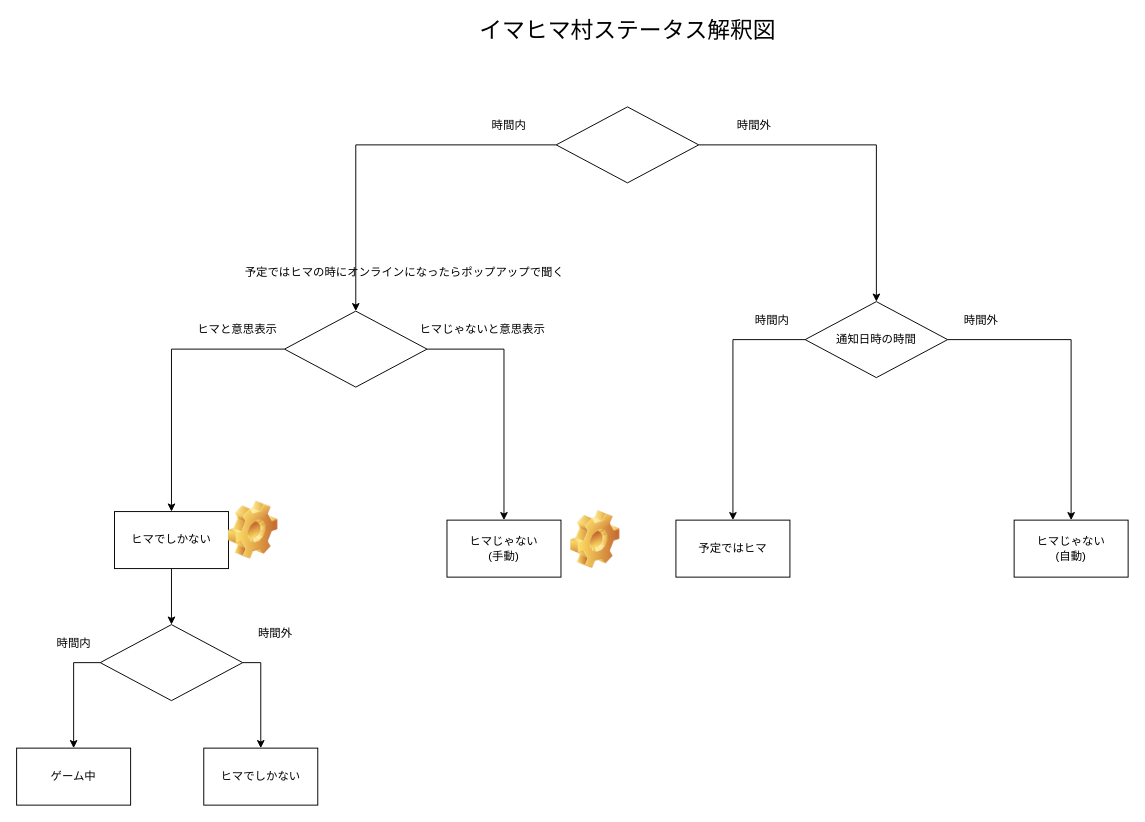
This 1145x822 diagram has some shape labels left out. The box of each missing label's shape, as (x1, y1, x2, y2) in pixels:
参加予定の イベント時間: (99, 624, 243, 701)
意思表示内容: (284, 310, 427, 387)
意思表示有効時間: (555, 106, 699, 183)
